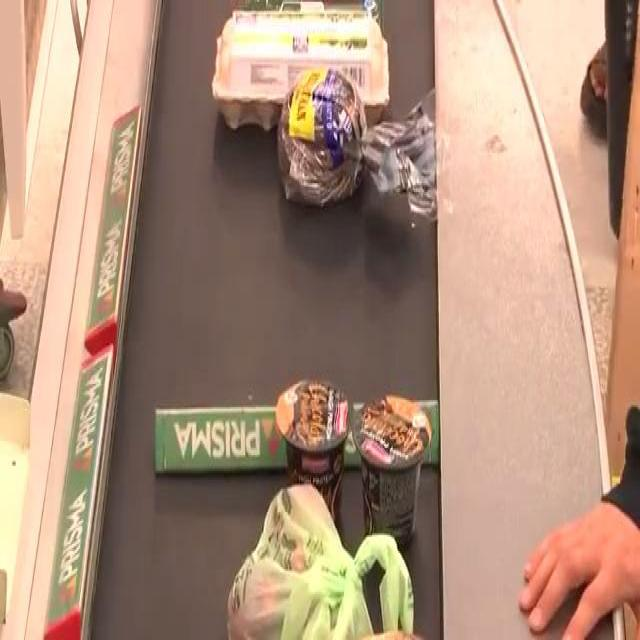food-box: (278, 58, 420, 225), (221, 10, 395, 111), (352, 388, 431, 544), (279, 372, 348, 500)
fruit: (227, 492, 433, 636)
